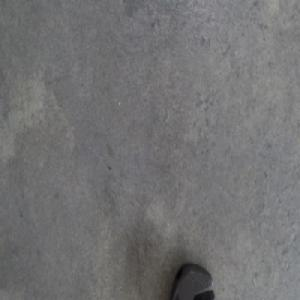AdjustableWrench: (169, 263, 214, 299)
